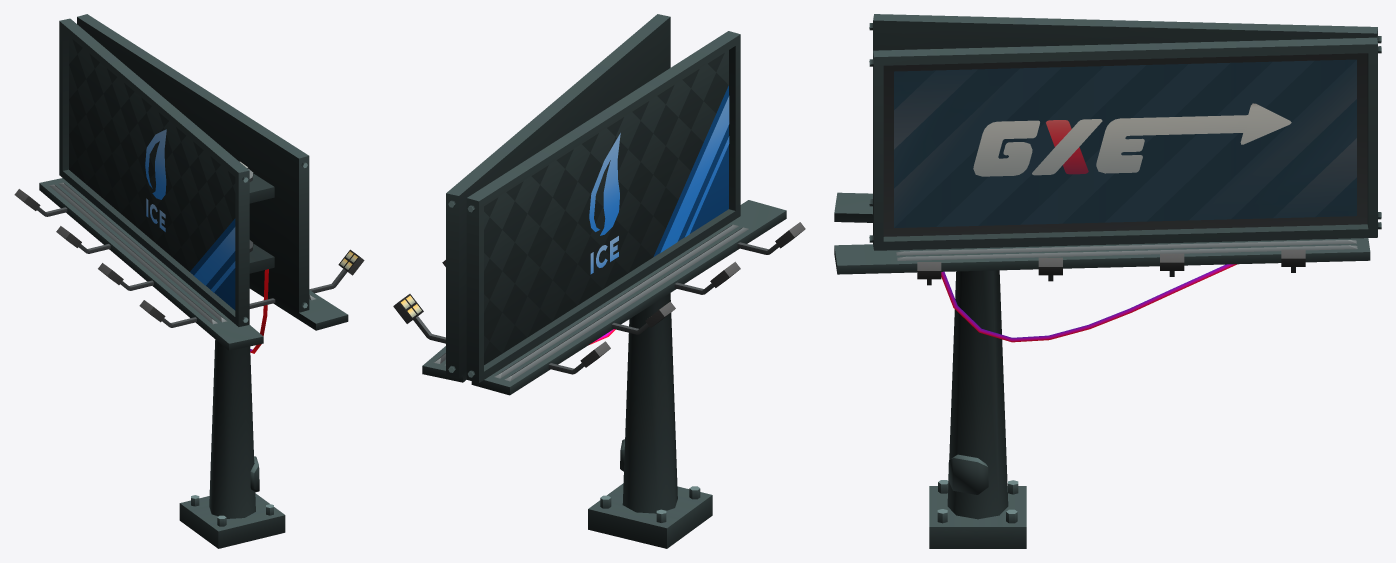
File: Billboard_2C.fbx
The picture shows the model from 3 angles, left to right: view 1: azimuth 30°, elevation 25°; view 2: azimuth 150°, elevation 25°; view 3: azimuth 270°, elevation 25°; orthographic projection. The views are drawn at different scales.
Visible parts, largest first — view 1: Billboard_2C, Billboard_2C_Image.L; view 2: Billboard_2C, Billboard_2C_Image.L; view 3: Billboard_2C, Billboard_2C_Image.R.
Part boxes in pixels (box(x1,y1,x2,y2)): Billboard_2C: box(14, 14, 364, 548); Billboard_2C_Image.L: box(69, 36, 235, 310); Billboard_2C: box(393, 14, 805, 548); Billboard_2C_Image.L: box(484, 50, 729, 364); Billboard_2C: box(834, 14, 1381, 548); Billboard_2C_Image.R: box(894, 59, 1356, 227).
Bounding box in the file's own units: 6.44 × 11.2 × 11.27.
